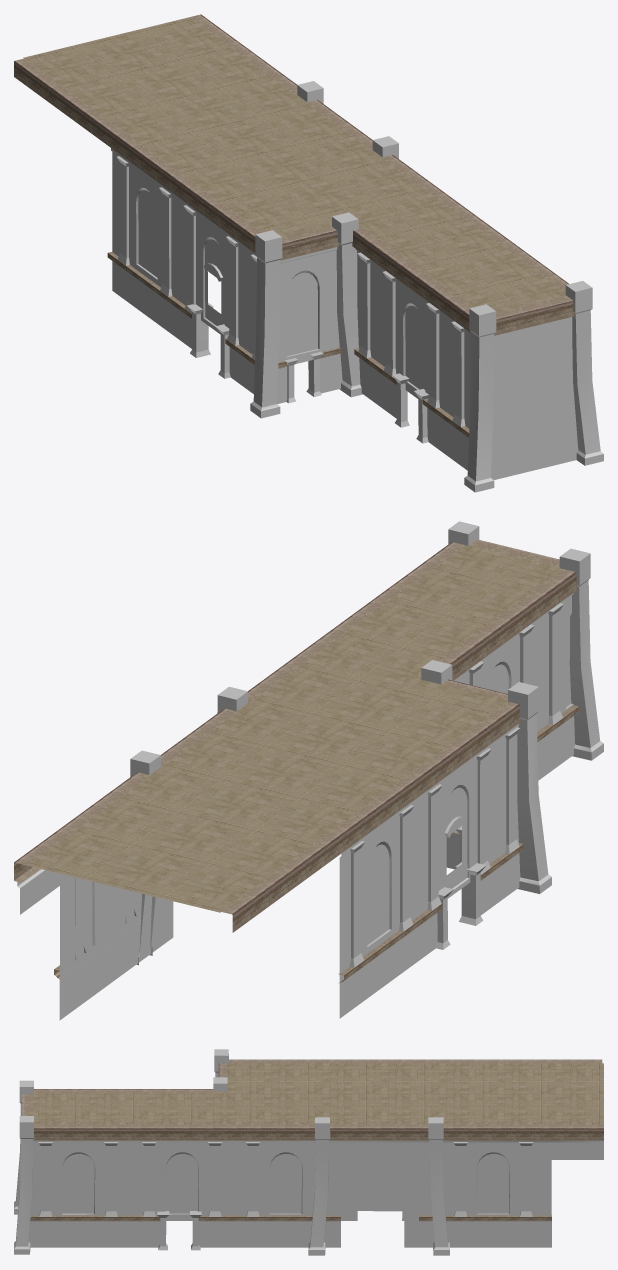
File: jianzhu_08.FBX
3 views of the same model, one above another, from view 1: azimuth 30°, elevation 25°; view 2: azimuth 150°, elevation 25°; view 3: azimuth 270°, elevation 25° (orthographic). The views are drawn at different scales.
Parts seen in each view (by area): view 1: ding, waiqiang, weiqiang, dazhuzi, qiangyan, zhuzi, menkuangzhuzi, taizi; view 2: ding, waiqiang, qiangyan, dazhuzi, weiqiang, zhuzi, taizi, menkuangzhuzi; view 3: waiqiang, ding, qiangyan, weiqiang, dazhuzi, zhuzi, taizi, menkuangzhuzi.
Part boxes in pixels (x1,y1,x2,y2): ding: (23,17,565,312); waiqiang: (111,148,470,428); weiqiang: (112,261,578,479); dazhuzi: (250,81,603,492); qiangyan: (14,14,574,335); zhuzi: (117,156,465,426); menkuangzhuzi: (187,302,428,443); taizi: (107,252,469,437); ding: (27,545,562,912); waiqiang: (17,593,573,979); qiangyan: (14,539,577,932); dazhuzi: (130,521,603,965); weiqiang: (59,716,575,1020); zhuzi: (74,603,563,967); taizi: (54,705,579,982); menkuangzhuzi: (436,826,486,949); waiqiang: (31,1140,603,1220); ding: (33,1063,603,1124); qiangyan: (22,1059,603,1140); weiqiang: (29,1221,551,1247); dazhuzi: (14,1049,449,1255); zhuzi: (38,1142,533,1216); taizi: (30,1215,551,1221); menkuangzhuzi: (157,1211,201,1250).
Size of the model in its own units: 19.83 by 15.18 by 62.55.
